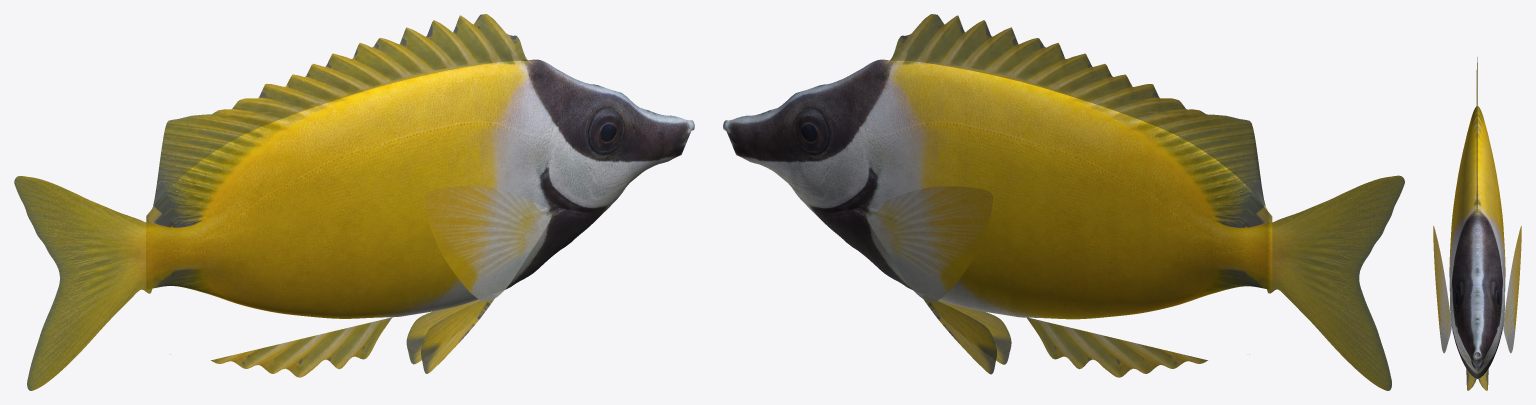
Rendered from vulpinus.glb.
3 views of the same model, side by side, from view 1: azimuth 30°, elevation 25°; view 2: azimuth 150°, elevation 25°; view 3: azimuth 270°, elevation 25° (orthographic). The views are drawn at different scales.
Visible parts, largest first — view 1: vulpinus__body, vulpinus__fin_1, vulpinus__fin_0, vulpinus__pectoral_1, vulpinus__fin_2, vulpinus__gill_1, vulpinus__pelvic_1, vulpinus__pelvic_-1, vulpinus__eye_1; view 2: vulpinus__body, vulpinus__fin_1, vulpinus__fin_0, vulpinus__pectoral_-1, vulpinus__fin_2, vulpinus__gill_-1, vulpinus__pelvic_-1, vulpinus__pelvic_1, vulpinus__eye_-1; view 3: vulpinus__body, vulpinus__pectoral_1, vulpinus__pectoral_-1, vulpinus__fin_1, vulpinus__gill_-1, vulpinus__gill_1, vulpinus__pelvic_1, vulpinus__pelvic_-1, vulpinus__eye_1, vulpinus__eye_-1.
Part boxes in pixels (x1,y1,x2,y2): vulpinus__body: (146, 59, 694, 318); vulpinus__fin_1: (151, 14, 528, 210); vulpinus__fin_0: (14, 176, 153, 390); vulpinus__pectoral_1: (425, 186, 552, 301); vulpinus__fin_2: (211, 317, 392, 377); vulpinus__gill_1: (547, 141, 597, 219); vulpinus__pelvic_1: (421, 299, 494, 373); vulpinus__pelvic_-1: (406, 299, 480, 364); vulpinus__eye_1: (594, 111, 618, 143); vulpinus__body: (723, 59, 1272, 319); vulpinus__fin_1: (890, 14, 1267, 209); vulpinus__fin_0: (1267, 175, 1404, 390); vulpinus__pectoral_-1: (865, 186, 992, 301); vulpinus__fin_2: (1027, 317, 1249, 377); vulpinus__gill_-1: (820, 141, 871, 219); vulpinus__pelvic_-1: (923, 299, 996, 374); vulpinus__pelvic_1: (937, 300, 1011, 364); vulpinus__eye_-1: (799, 111, 823, 143); vulpinus__body: (1449, 106, 1505, 378); vulpinus__pectoral_1: (1433, 226, 1451, 353); vulpinus__pectoral_-1: (1503, 226, 1521, 353); vulpinus__fin_1: (1476, 57, 1477, 212); vulpinus__gill_-1: (1499, 275, 1504, 341); vulpinus__gill_1: (1450, 275, 1455, 339); vulpinus__pelvic_1: (1466, 369, 1476, 390); vulpinus__pelvic_-1: (1478, 369, 1488, 390); vulpinus__eye_1: (1455, 283, 1462, 306); vulpinus__eye_-1: (1492, 283, 1499, 306).
Bounding box in the file's own units: 1.25 × 0.6082 × 0.1831.
5 materials, 5 textured.
